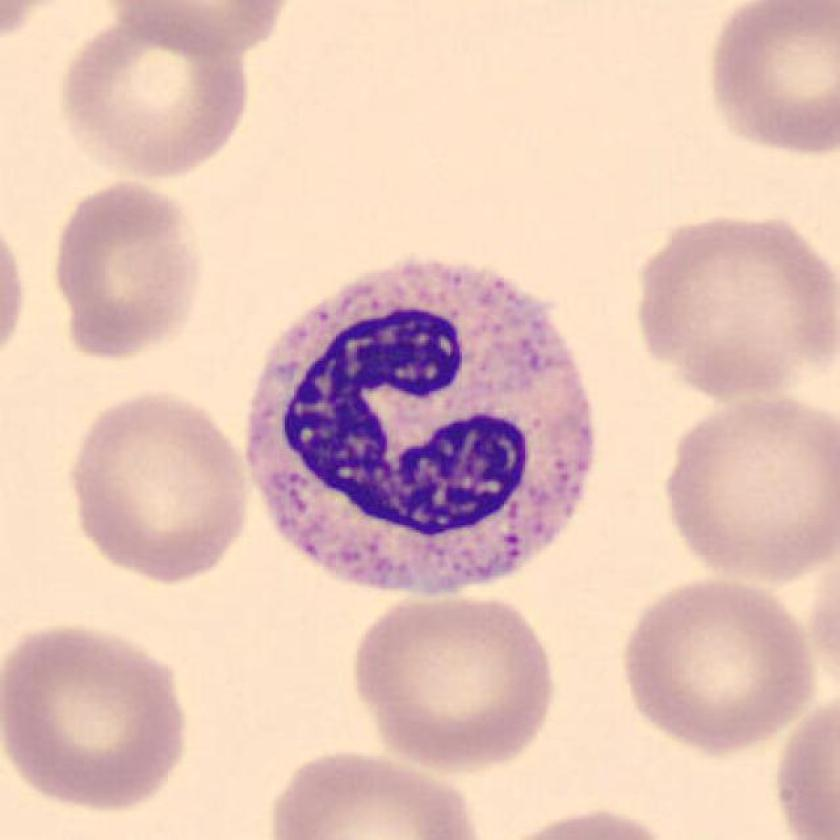neutrophil: (253, 257, 592, 586)
